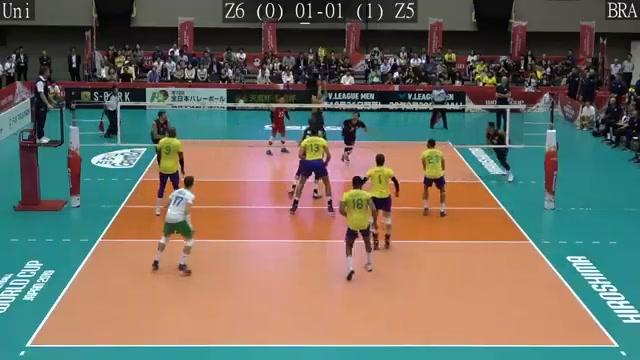ball: (317, 44, 329, 62)
